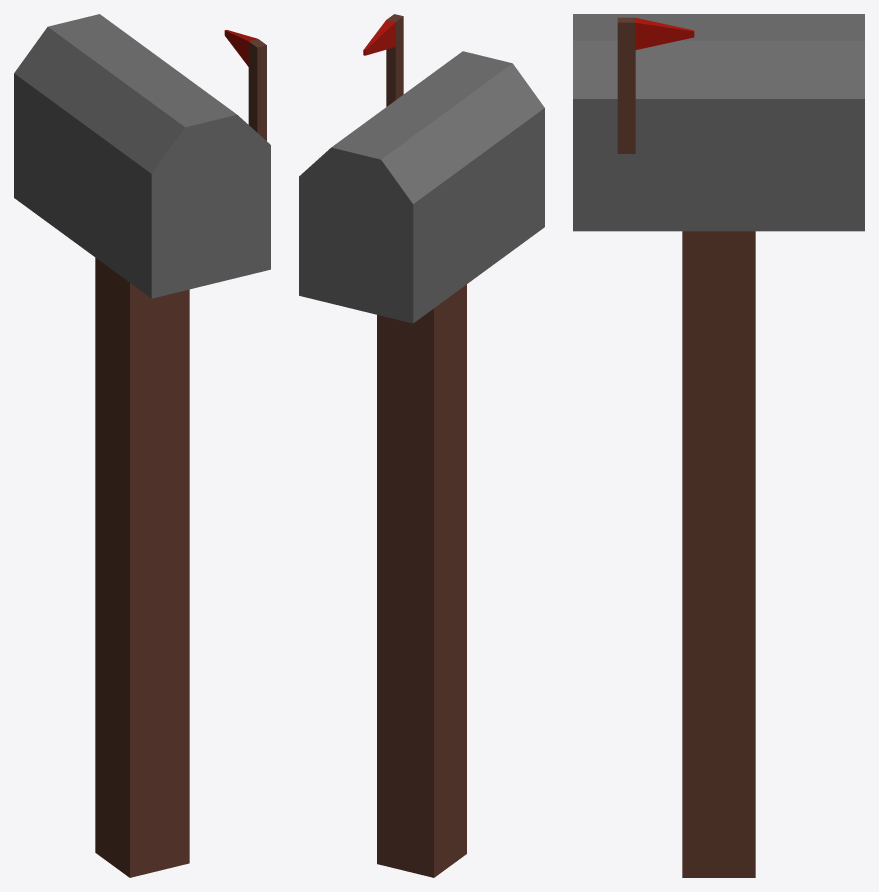
The model's file is Farmi_Postilaatikko.fbx.
3 views of the same model, side by side, from view 1: azimuth 30°, elevation 25°; view 2: azimuth 150°, elevation 25°; view 3: azimuth 270°, elevation 25° (orthographic). The views are drawn at different scales.
Parts seen in each view (by area): view 1: Cube; view 2: Cube; view 3: Cube.
Part boxes in pixels (x1,y1,x2,y2): Cube: [14, 14, 270, 877]; Cube: [299, 14, 544, 877]; Cube: [573, 14, 864, 877].
Size of the model in its own units: 22.87 by 133 by 40.01.
